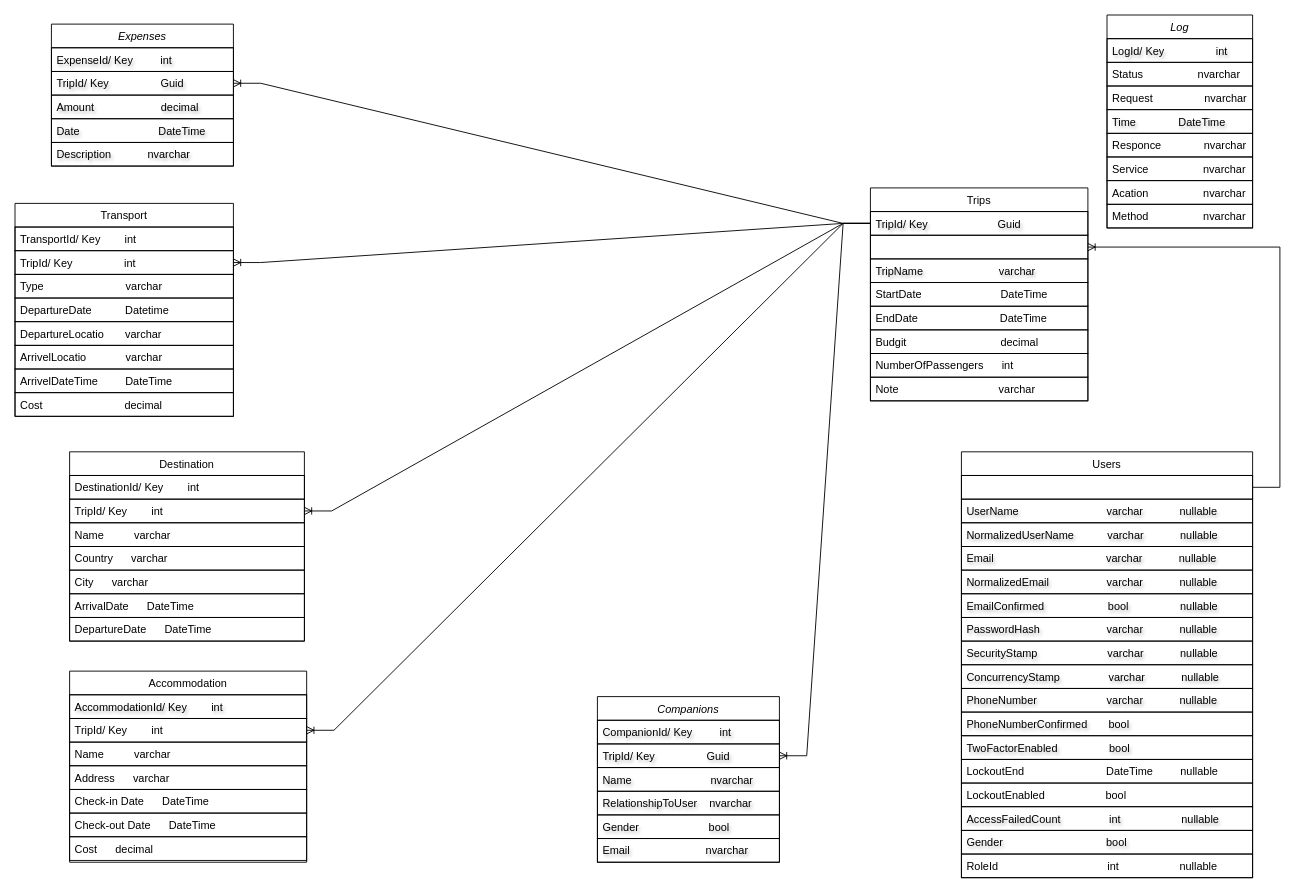
This 1295x893 diagram has some shape labels left out. The centre of each missing label's shape, as x and y in pixels:
UserID Guid: (x=979, y=246)
UserId/ Key Guid: (x=1107, y=487)
